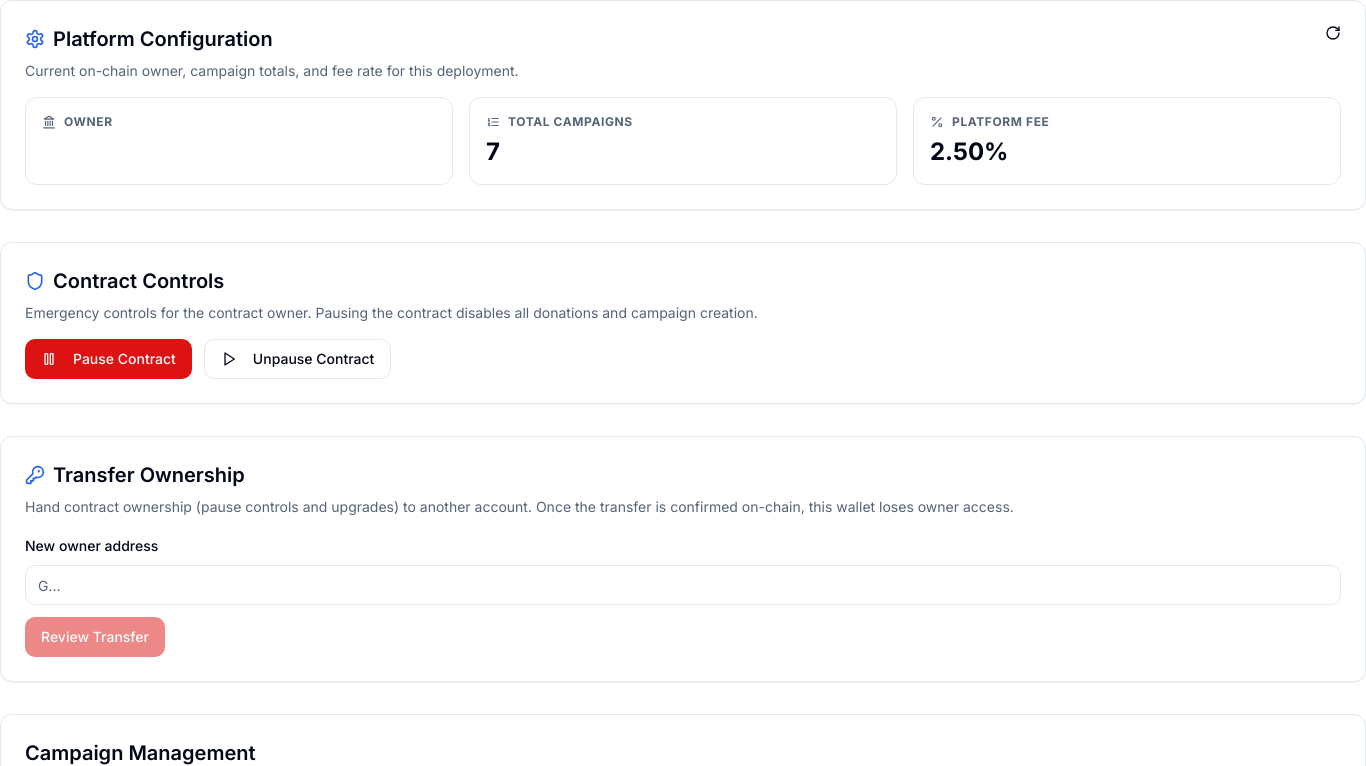
AdminPanel – ownership transfer › rejects the current owner before signing
The image size is (1366, 766).
Type "GA7QYNF7SOWQ3GLR2BGMZEHXAVIRZA4KVWLTJJFC7MGXUA74P7UJVSGZ" into the field labelled "New owner address" at x=683, y=585, box [25,565,1341,605]
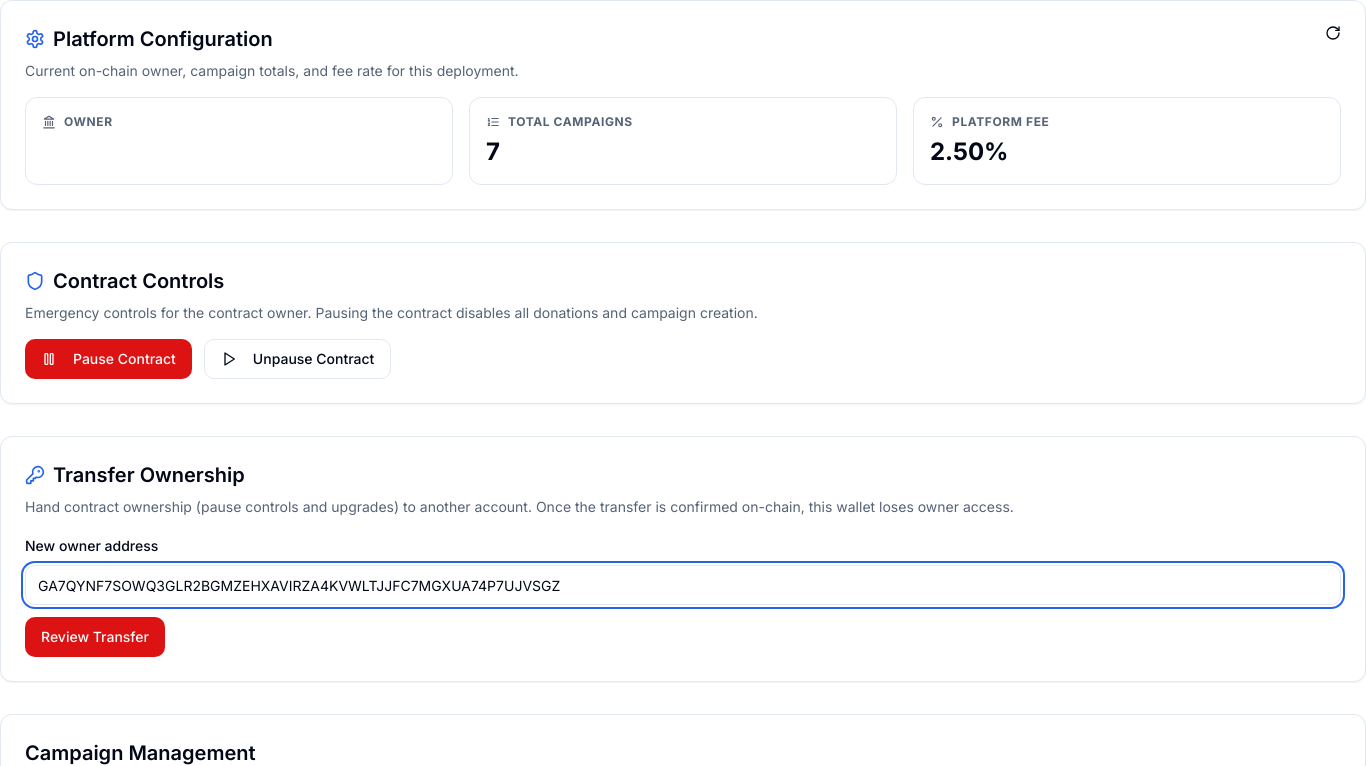
Click the button "Review Transfer" at x=95, y=637, box [25,617,165,657]
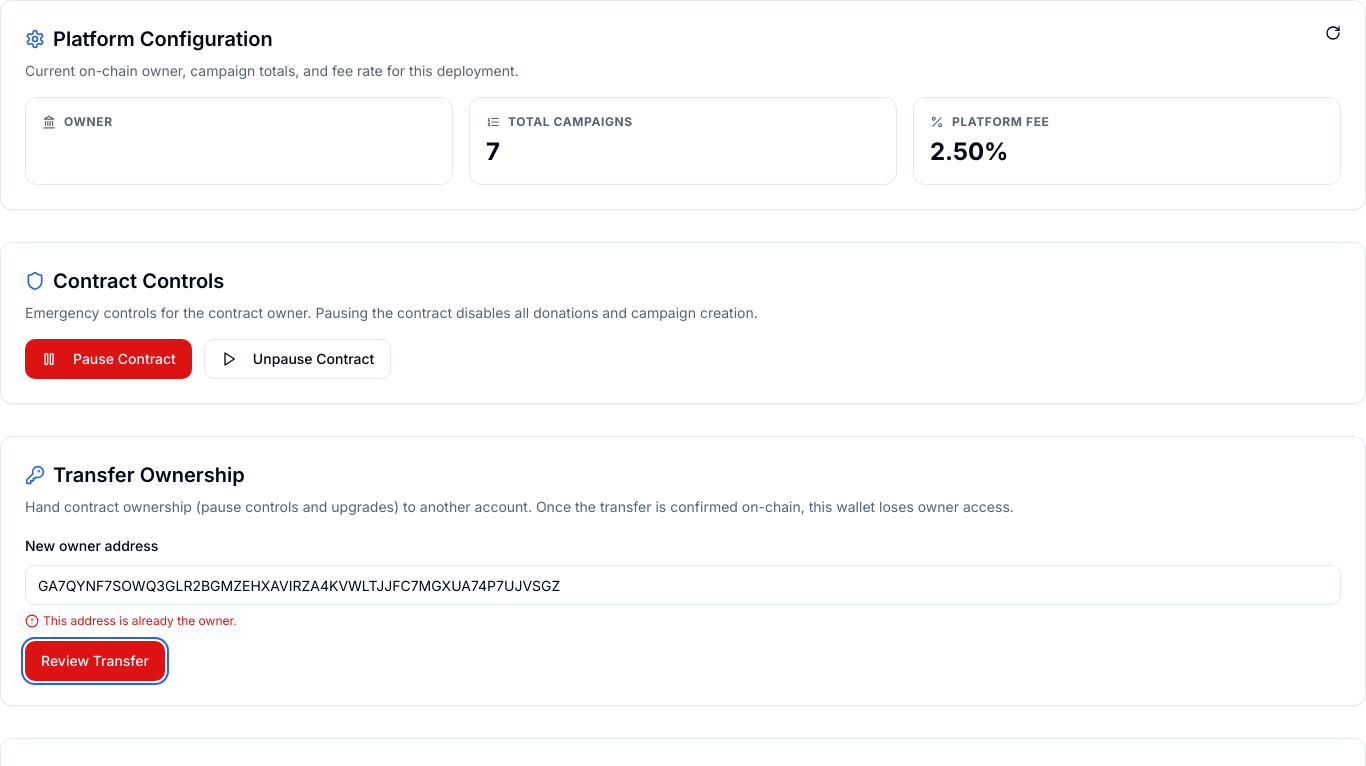
Check: the text "This address is already the owner." is shown, box [25,613,237,628]
